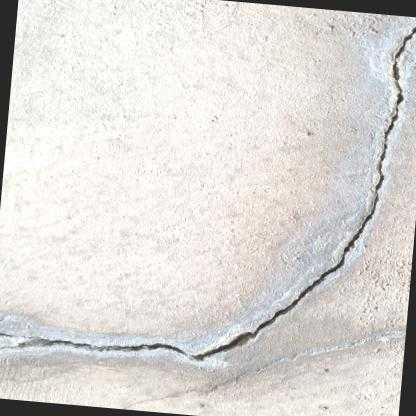crack: (0, 17, 416, 365)
